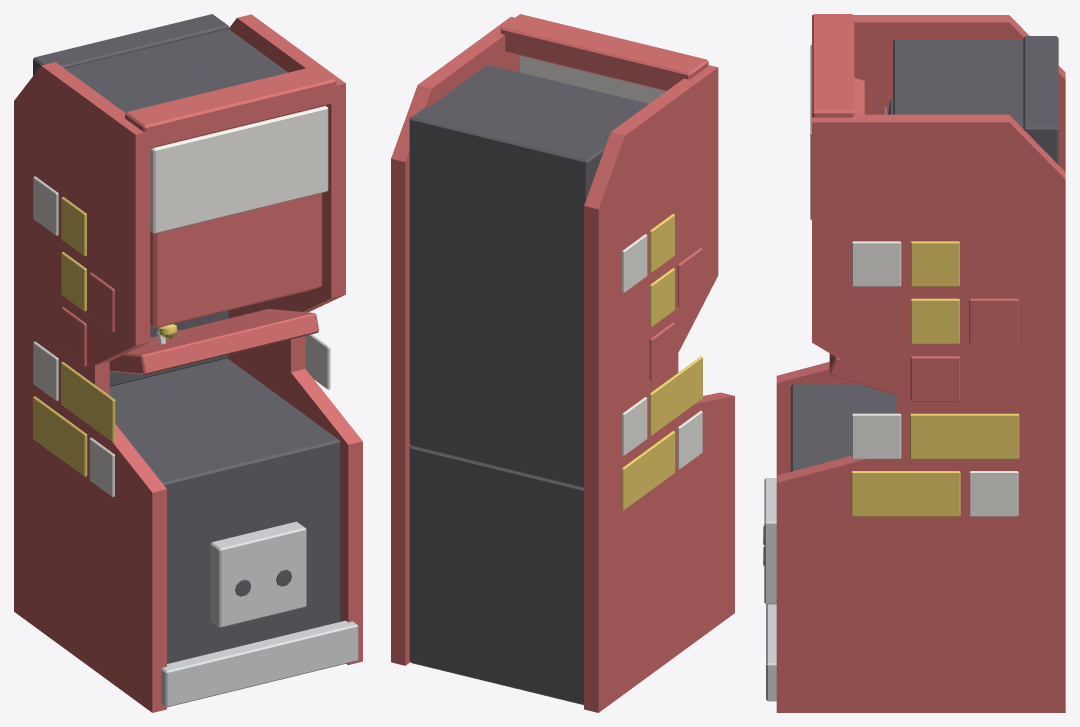
The model's file is amusement-arcade-and-seaside-pier-arcade-cabinet-red-d2018276__35402.glb.
3 renders of one model, left to right at view 1: azimuth 30°, elevation 25°; view 2: azimuth 150°, elevation 25°; view 3: azimuth 270°, elevation 25°, orthographic. The views are drawn at different scales.
Visible parts, largest first — view 1: arcade-cabinet-red; view 2: arcade-cabinet-red; view 3: arcade-cabinet-red.
Boxes of the visible parts, x1=… form: arcade-cabinet-red: x1=14, y1=14, x2=362, y2=712; arcade-cabinet-red: x1=391, y1=14, x2=734, y2=712; arcade-cabinet-red: x1=763, y1=14, x2=1065, y2=712.
Size of the model in its own units: 0.7461 by 1.87 by 0.858.
